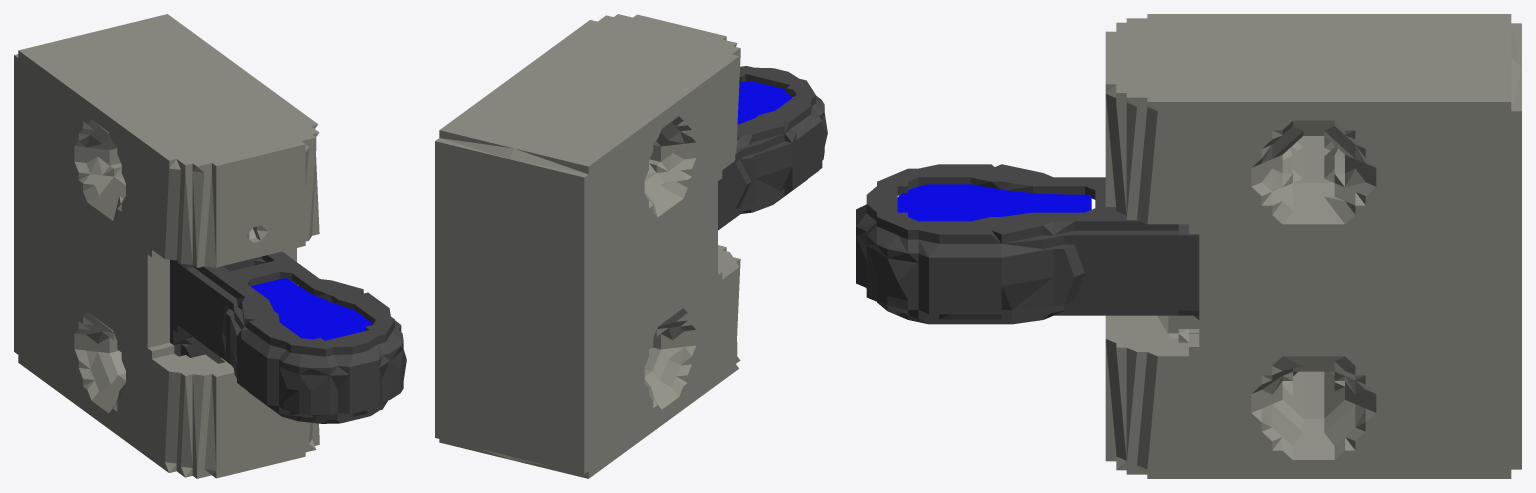
Rendered from schmersal-actuator.glb.
3 renders of one model, left to right at view 1: azimuth 30°, elevation 25°; view 2: azimuth 150°, elevation 25°; view 3: azimuth 270°, elevation 25°, orthographic. The views are drawn at different scales.
Parts seen in each view (by area): view 1: actuator_OEM_color_2, actuator_OEM_color_1, actuator_OEM_color_0; view 2: actuator_OEM_color_2, actuator_OEM_color_1, actuator_OEM_color_0; view 3: actuator_OEM_color_2, actuator_OEM_color_1, actuator_OEM_color_0.
Boxes of the visible parts, <box> form: actuator_OEM_color_2: <box>14,14,319,478</box>; actuator_OEM_color_1: <box>170,251,406,423</box>; actuator_OEM_color_0: <box>251,278,371,340</box>; actuator_OEM_color_2: <box>435,14,740,478</box>; actuator_OEM_color_1: <box>718,66,827,230</box>; actuator_OEM_color_0: <box>737,81,792,124</box>; actuator_OEM_color_2: <box>1105,14,1521,478</box>; actuator_OEM_color_1: <box>856,164,1199,324</box>; actuator_OEM_color_0: <box>897,184,1091,221</box>.
Bounding box in the file's own units: 0.02 × 0.04 × 0.064.
